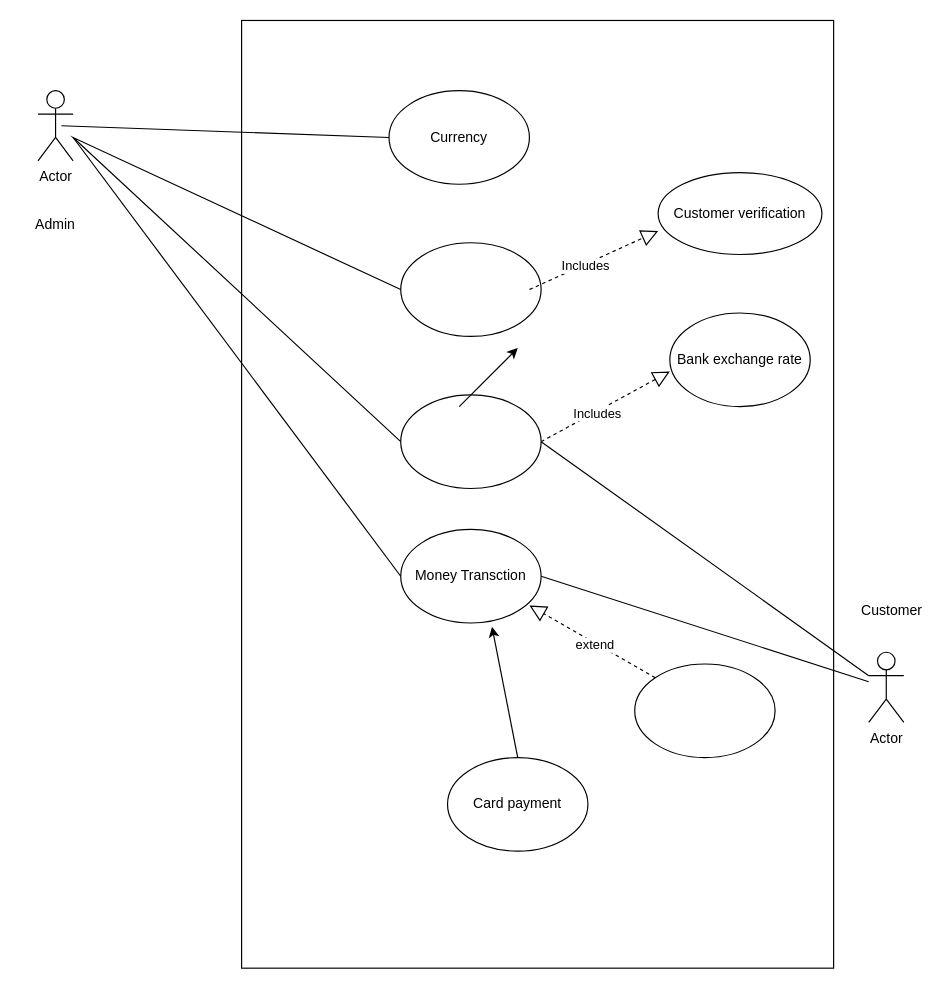
This 947x989 diagram has some shape labels left out. The shapes that lost their labels are listed below. From the top down, each one's box as (x1, y1, x2, y2) in pixels, then its label:
(400, 242, 541, 336): Customers
(400, 394, 541, 488): Exchange rate
(634, 663, 775, 758): Deffer Payment
